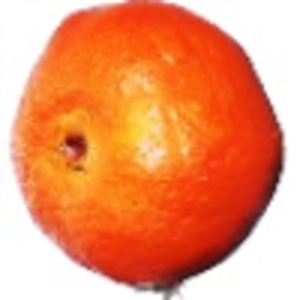tangerina: (9, 1, 288, 300)
